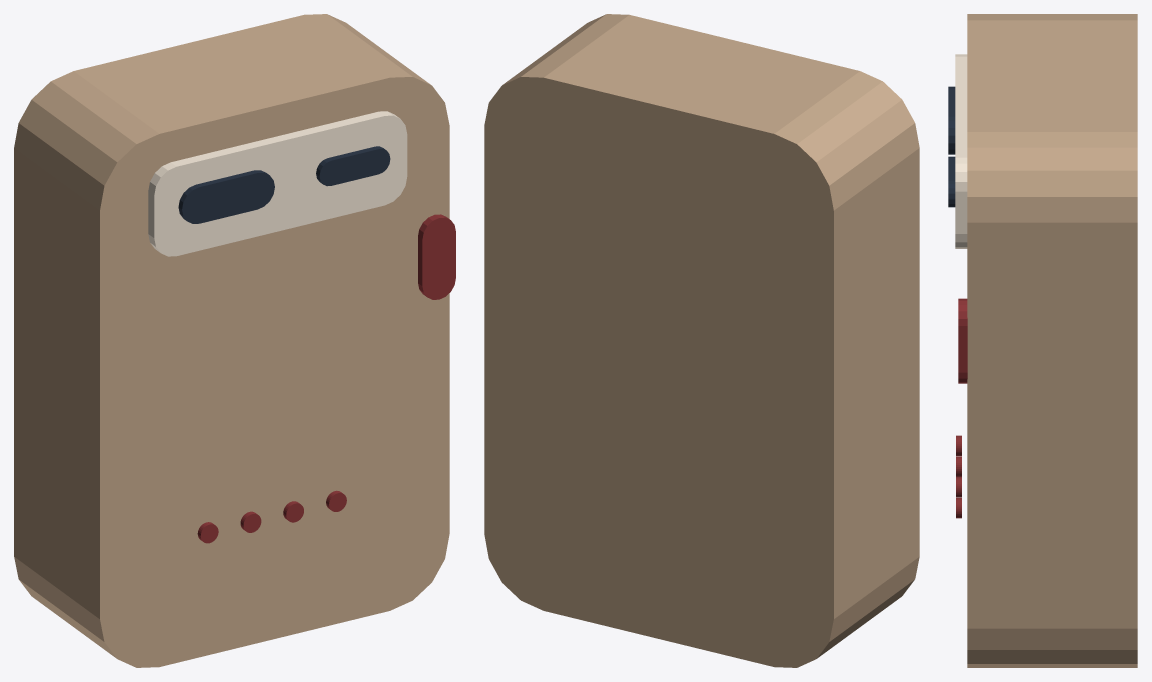
The model's file is powerbank.glb.
3 renders of one model, left to right at view 1: azimuth 30°, elevation 25°; view 2: azimuth 150°, elevation 25°; view 3: azimuth 270°, elevation 25°, orthographic.
Parts seen in each view (by area): view 1: body, port panel, port usb a, power key, port usb c; view 2: body; view 3: body, port panel, power key, port usb a, port usb c.
Part boxes in pixels (left/top/right/bottom): body: left=14, top=14, right=449, bottom=667; port panel: left=148, top=111, right=407, bottom=256; port usb a: left=178, top=170, right=274, bottom=223; power key: left=418, top=214, right=455, bottom=299; port usb c: left=316, top=146, right=390, bottom=186; body: left=484, top=14, right=919, bottom=667; body: left=967, top=14, right=1137, bottom=667; port panel: left=955, top=54, right=967, bottom=248; power key: left=958, top=298, right=967, bottom=383; port usb a: left=948, top=86, right=955, bottom=154; port usb c: left=948, top=156, right=955, bottom=207.
Bounding box in the file's own units: 0.945 × 1.37 × 0.4445.
